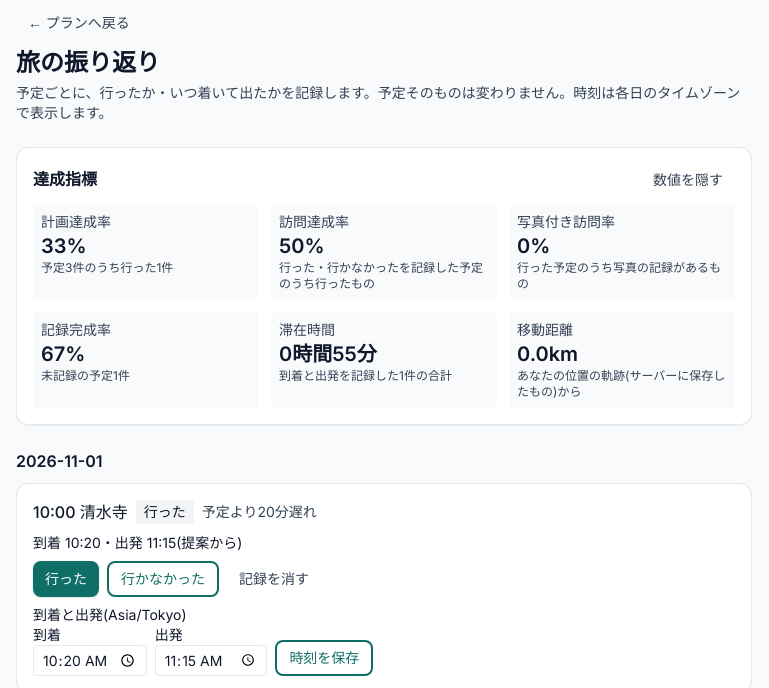
Test: JourneyPage (Gate P14) › 記録済みの実績・予定との差・指標を表示し、数値は隠せる(端末に覚える)
Expected: the text "33%" is shown, [41,234,86,258]
Expected: the text "0%" is shown, [517,234,550,258]
Click the button "数値を隠す": (688, 180) [641,164,735,196]
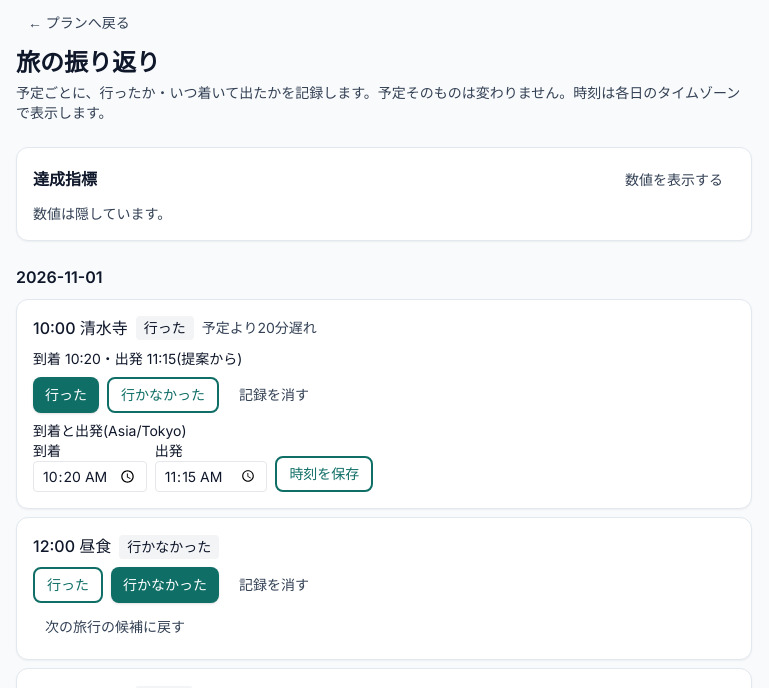
Now the text "数値は隠しています。" is shown, box [33,205,171,222]
